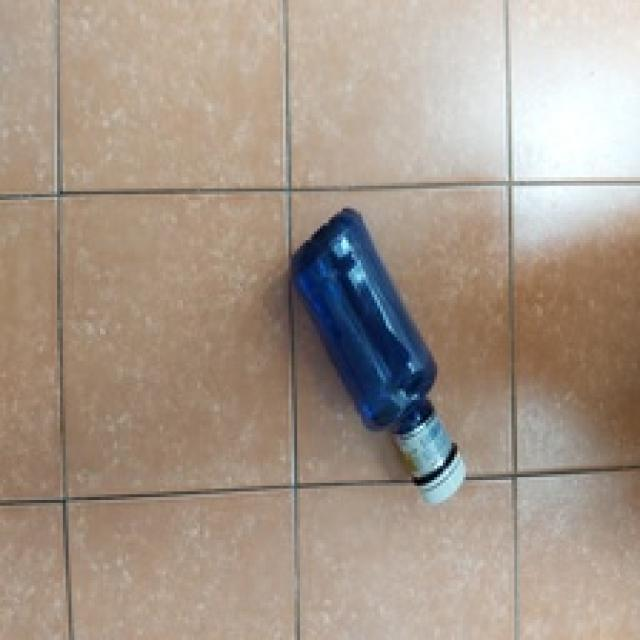Plastic: (293, 208, 467, 504)
